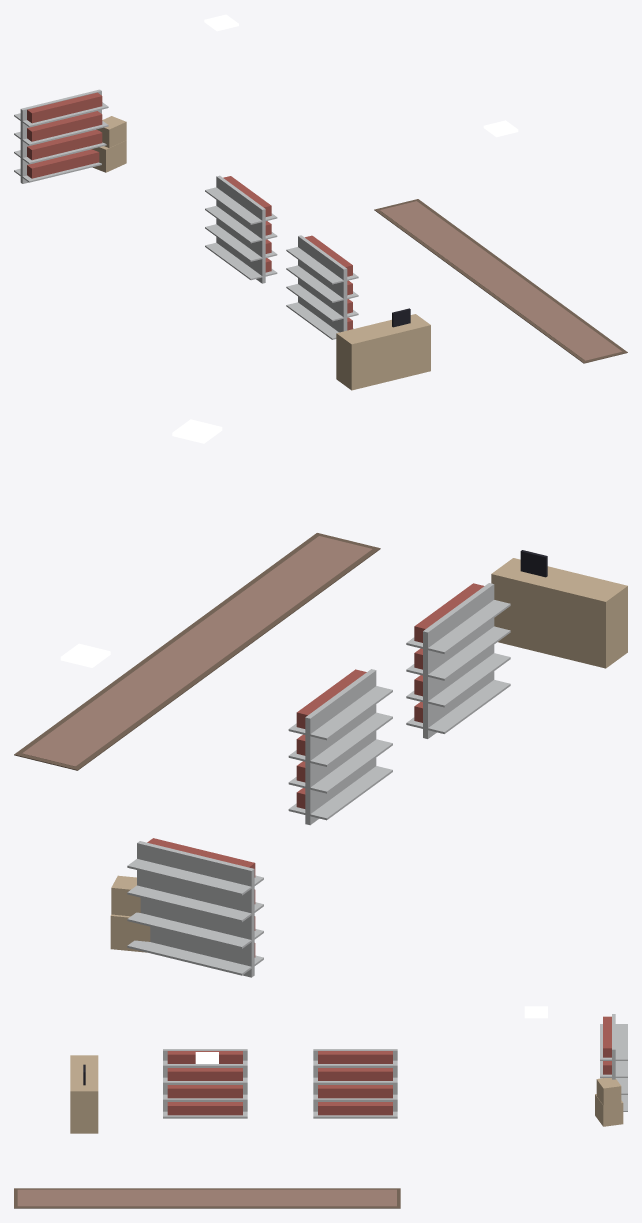
File: fine-s0.glb
3 renders of one model, top to bottom at view 1: azimuth 30°, elevation 25°; view 2: azimuth 150°, elevation 25°; view 3: azimuth 270°, elevation 25°, orthographic. The views are drawn at different scales.
Parts seen in each view (by area): view 1: soft-s0, shelving.000, shop-counter.000, shelf.000, shelf.001, cardboard-box.000; view 2: soft-s0, shelving.000, shop-counter.000, shelf.000, shelf.001, cardboard-box.000, ceiling-lamp.001, ceiling-lamp.000; view 3: soft-s0, shelf.000, shelf.001, shop-counter.000, shelving.000, cardboard-box.000, ceiling-lamp.001.
Part boxes in pixels (<box>): soft-s0: <box>374,199,627,363</box>; shelving.000: <box>14,89,108,183</box>; shop-counter.000: <box>336,308,430,390</box>; shelf.000: <box>205,175,277,283</box>; shelf.001: <box>286,235,358,339</box>; cardboard-box.000: <box>92,116,126,172</box>; soft-s0: <box>14,533,380,770</box>; shelving.000: <box>127,838,263,977</box>; shop-counter.000: <box>491,550,627,668</box>; shelf.000: <box>288,669,392,825</box>; shelf.001: <box>406,583,510,738</box>; cardboard-box.000: <box>110,875,150,952</box>; ceiling-lamp.001: <box>60,643,110,667</box>; ceiling-lamp.000: <box>172,419,222,443</box>; soft-s0: <box>14,1188,400,1208</box>; shelf.000: <box>313,1049,397,1118</box>; shelf.001: <box>163,1049,247,1118</box>; shop-counter.000: <box>70,1055,98,1133</box>; shelving.000: <box>600,1014,627,1111</box>; cardboard-box.000: <box>595,1078,623,1126</box>; ceiling-lamp.001: <box>524,1006,547,1018</box>.
Size of the model in its own units: 6.37 by 3.33 by 13.08.
